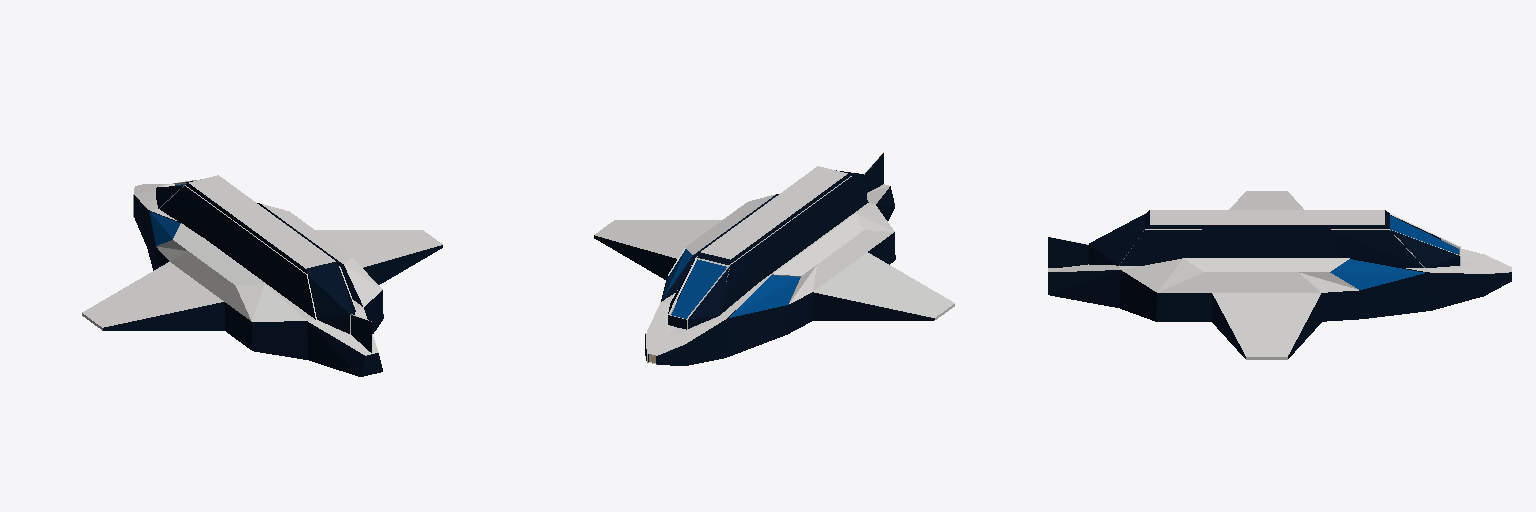
3 renders of one model, left to right at view 1: azimuth 30°, elevation 25°; view 2: azimuth 150°, elevation 25°; view 3: azimuth 270°, elevation 25°, orthographic.
Visible parts, largest first — view 1: Cube; view 2: Cube; view 3: Cube.
Part boxes in pixels (x1,y1,x2,y2): Cube: (82,175,442,376); Cube: (594,152,954,365); Cube: (1048,191,1511,359).
Size of the model in its own units: 18.57 by 4.02 by 21.91.
1 materials, 1 textured.